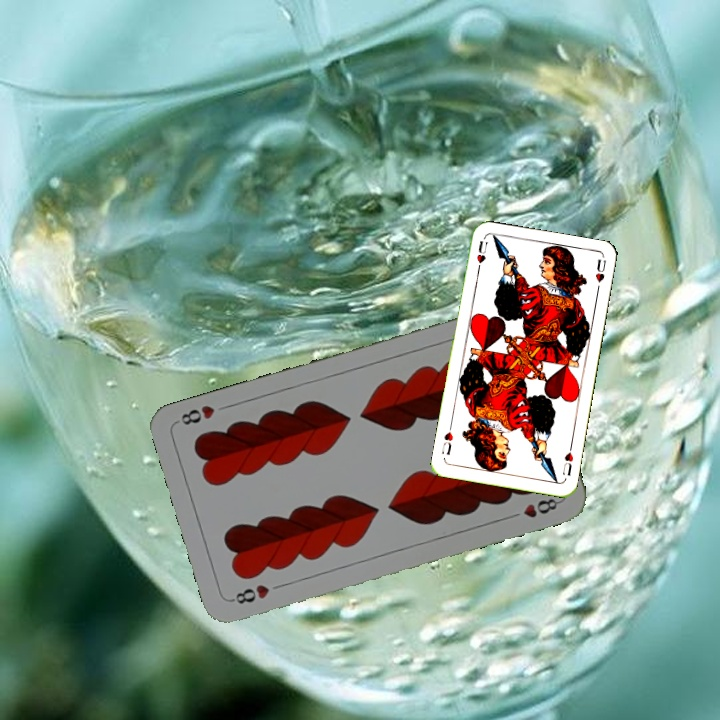H8: (227, 580, 272, 607)
HU: (472, 237, 490, 275), (558, 441, 576, 478)
